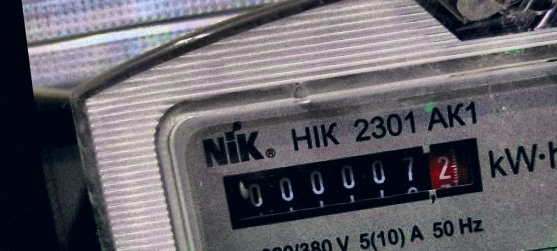0: (244, 179, 265, 208), (306, 166, 326, 196), (337, 161, 357, 190), (276, 173, 295, 202), (369, 157, 387, 186)
2: (434, 153, 453, 181)
7: (399, 152, 418, 183)
screen: (209, 129, 496, 236)
